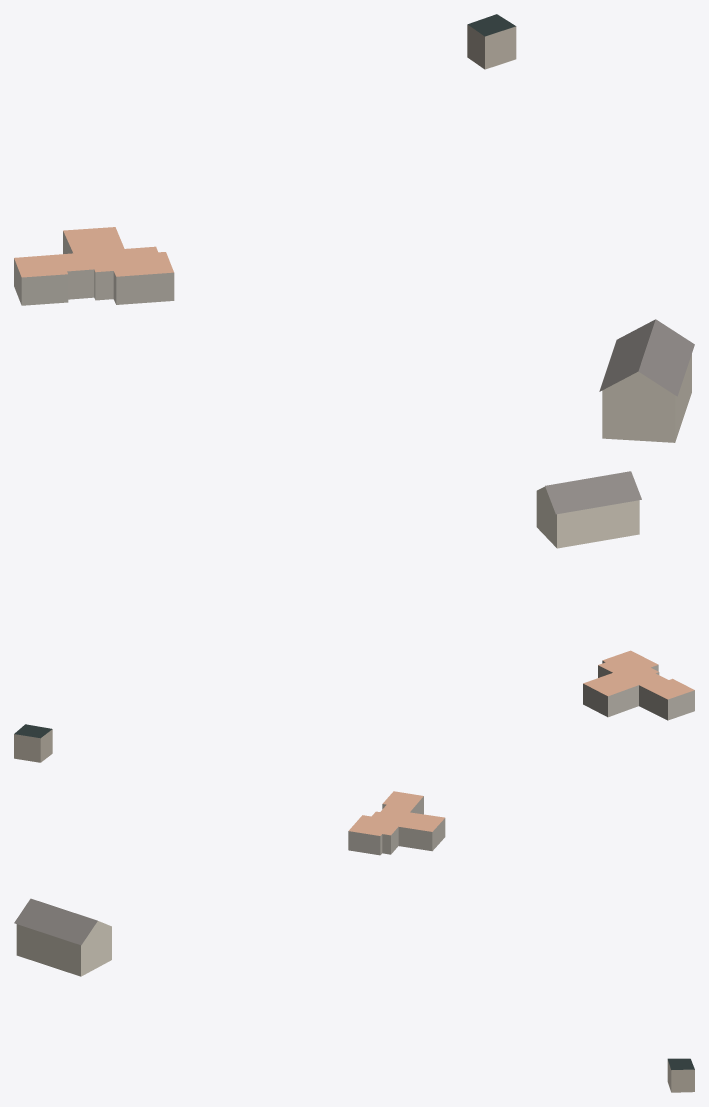
3 renders of one model, top to bottom at view 1: azimuth 30°, elevation 25°; view 2: azimuth 150°, elevation 25°; view 3: azimuth 270°, elevation 25°, orthographic. The views are drawn at different scales.
Parts seen in each view (by area): view 1: tuile; view 2: tuile; view 3: tuile.
Boxes of the visible parts, <box> form: tuile: <box>14,14,694,442</box>; tuile: <box>14,471,694,762</box>; tuile: <box>14,791,694,1092</box>.
Size of the model in its own units: 102 by 16.12 by 126.
